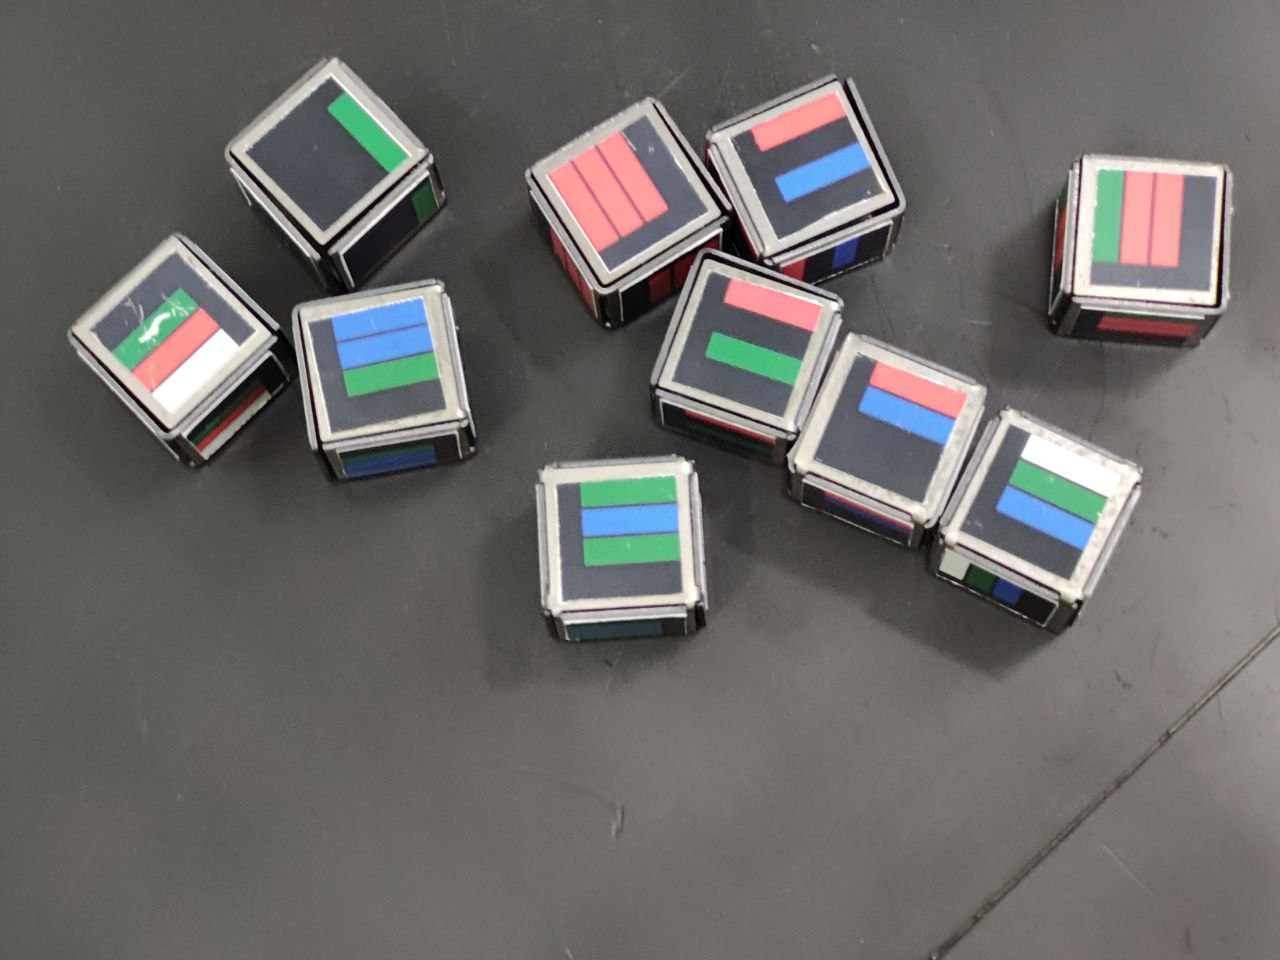Cube: (216, 35, 450, 264), (51, 220, 292, 441), (931, 393, 1155, 620), (514, 76, 737, 303), (784, 313, 998, 534), (636, 237, 854, 453), (702, 64, 914, 280), (271, 255, 481, 470), (520, 445, 722, 643), (1052, 134, 1242, 332)
